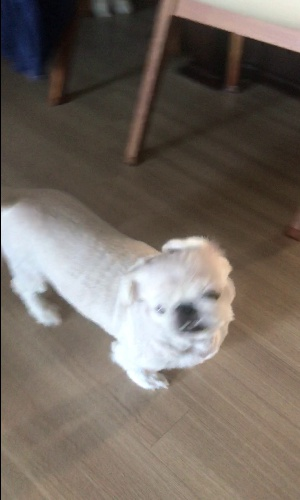ddubi: (1, 181, 238, 396)
